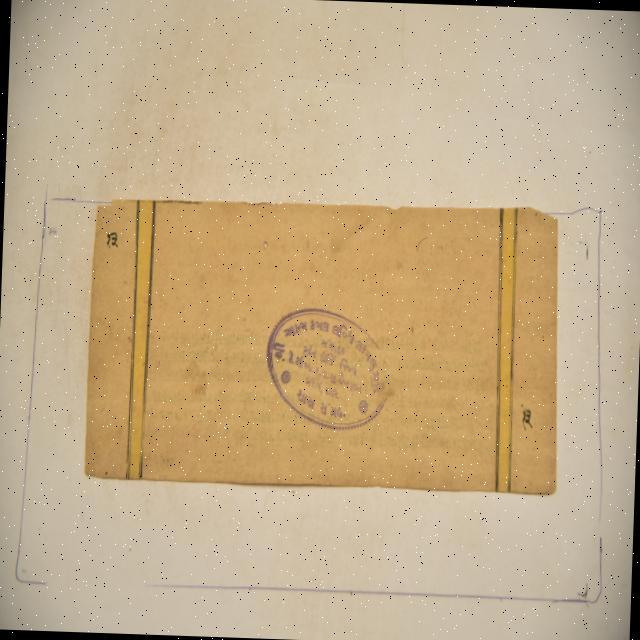text_paragraph: (86, 205, 554, 490)
